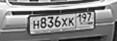license-plateSW: (30, 12, 94, 32)
